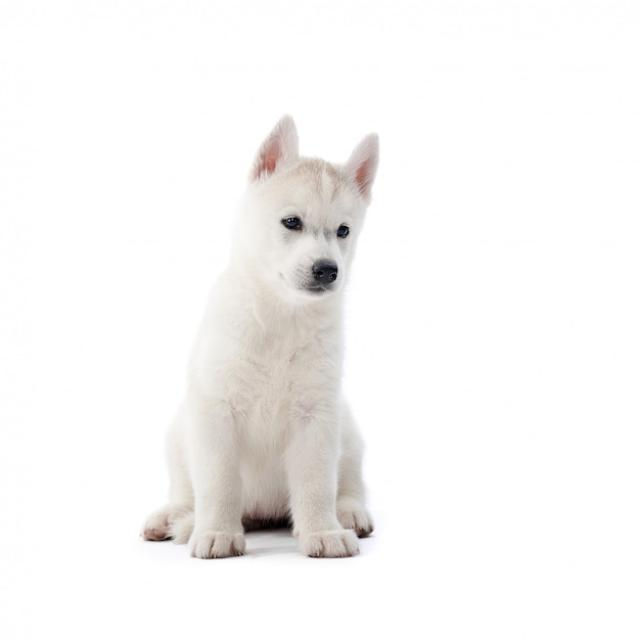Dog: (141, 115, 378, 558)
